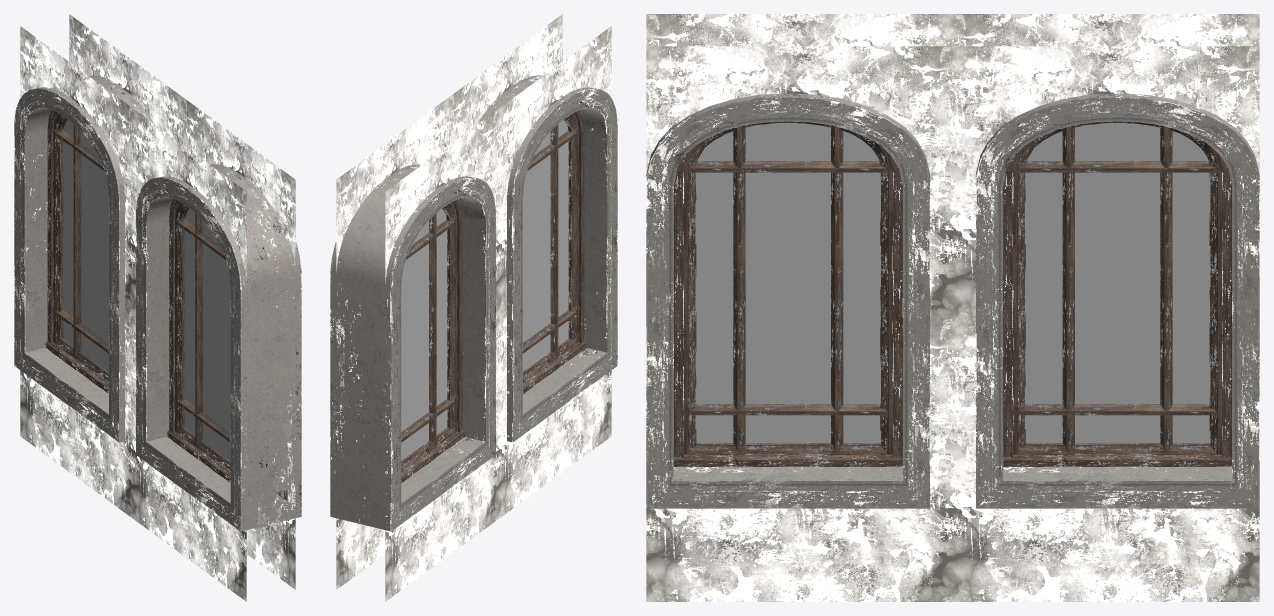
The model's file is SM_wall_A_window_4x4_02_01.fbx.
The picture shows the model from 3 angles, left to right: view 1: azimuth 30°, elevation 25°; view 2: azimuth 150°, elevation 25°; view 3: azimuth 270°, elevation 25°; orthographic projection. The views are drawn at different scales.
Visible parts, largest first — view 1: SM_wall_A_window_4x4_02_01_LOD0; view 2: SM_wall_A_window_4x4_02_01_LOD0; view 3: SM_wall_A_window_4x4_02_01_LOD0.
Part boxes in pixels (x1,y1,x2,y2): SM_wall_A_window_4x4_02_01_LOD0: (14,14,301,601); SM_wall_A_window_4x4_02_01_LOD0: (330,14,617,601); SM_wall_A_window_4x4_02_01_LOD0: (646,14,1259,601).
Size of the model in its own units: 62.17 by 400 by 400.
Materials: 5 (4 with a texture image).
